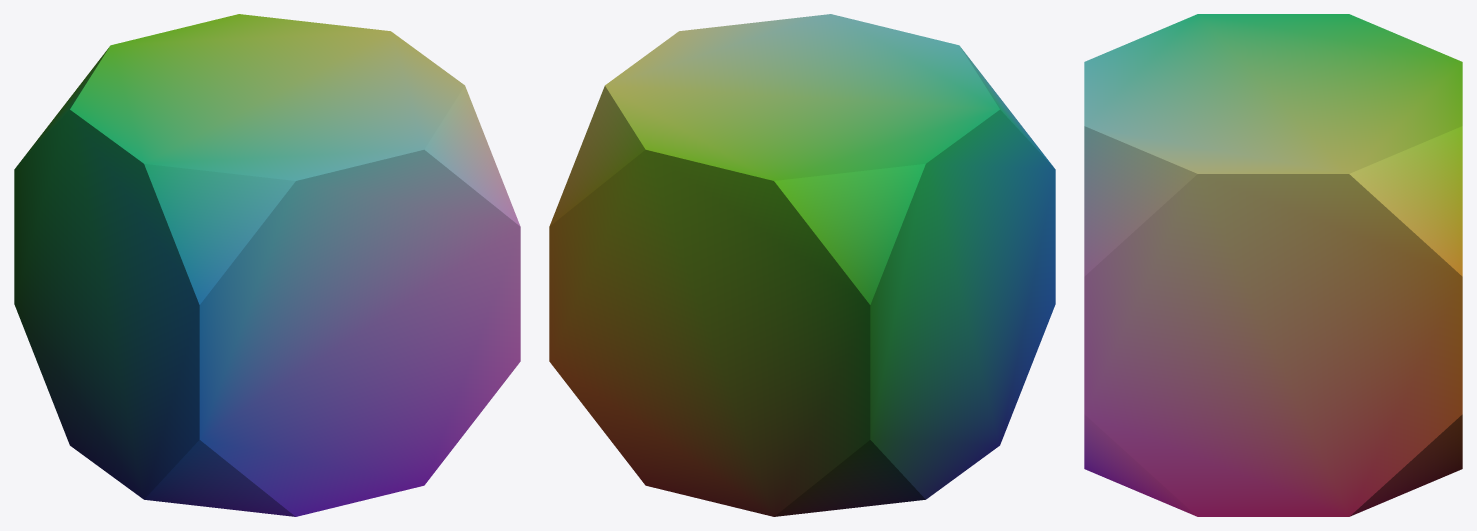
Rendered from zeometry-polyhedra-truncated-cube_v1.glb.
3 views of the same model, side by side, from view 1: azimuth 30°, elevation 25°; view 2: azimuth 150°, elevation 25°; view 3: azimuth 270°, elevation 25° (orthographic). The views are drawn at different scales.
Visible parts, largest first — view 1: Truncated Cube; view 2: Truncated Cube; view 3: Truncated Cube.
Boxes of the visible parts, box(x1,y1,x2,y2) form: Truncated Cube: box(14, 14, 520, 516); Truncated Cube: box(549, 14, 1055, 516); Truncated Cube: box(1084, 14, 1462, 516).
Bounding box in the file's own units: 0.5 × 0.5 × 0.5.
